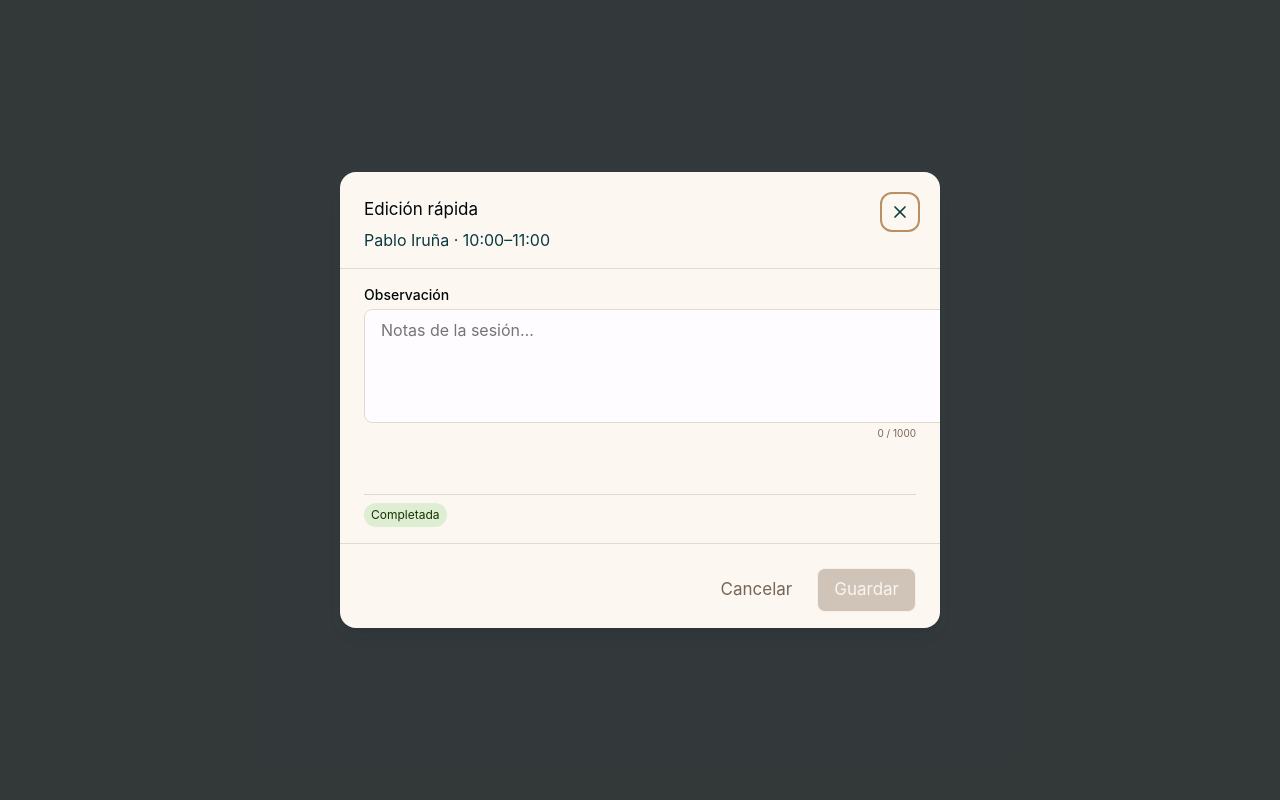
Test: CitaQuickEditModal — Save gating › completada estado: Save stays disabled until the note changes (no toggle available)
Check: the button "Guardar" is disabled, box [817,568,916,612]
Type "nota tardía" into the text box labelled "Observación" at [657, 366], box [364,309,950,423]
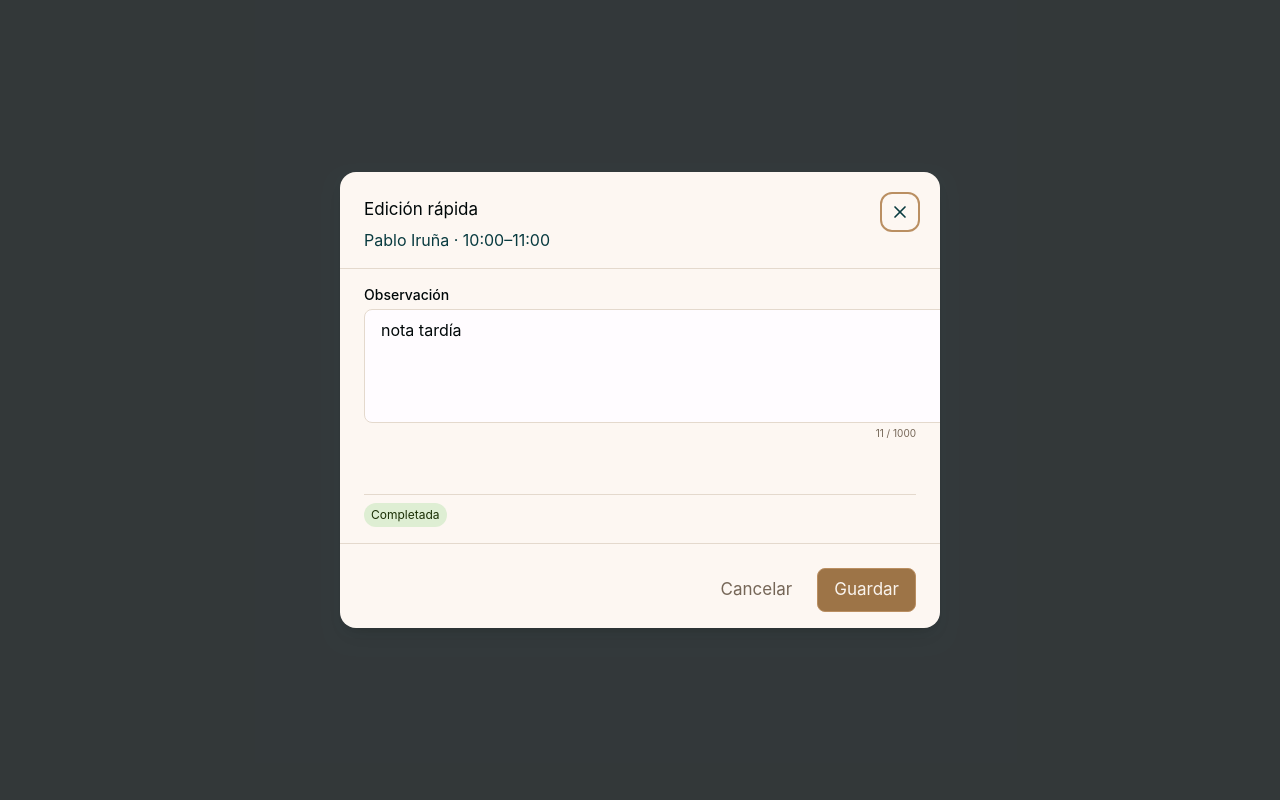
Check: the button "Guardar" is enabled, box [817,568,916,612]
